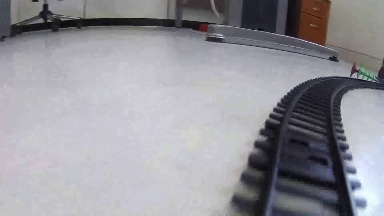tree: (348, 60, 384, 82)
